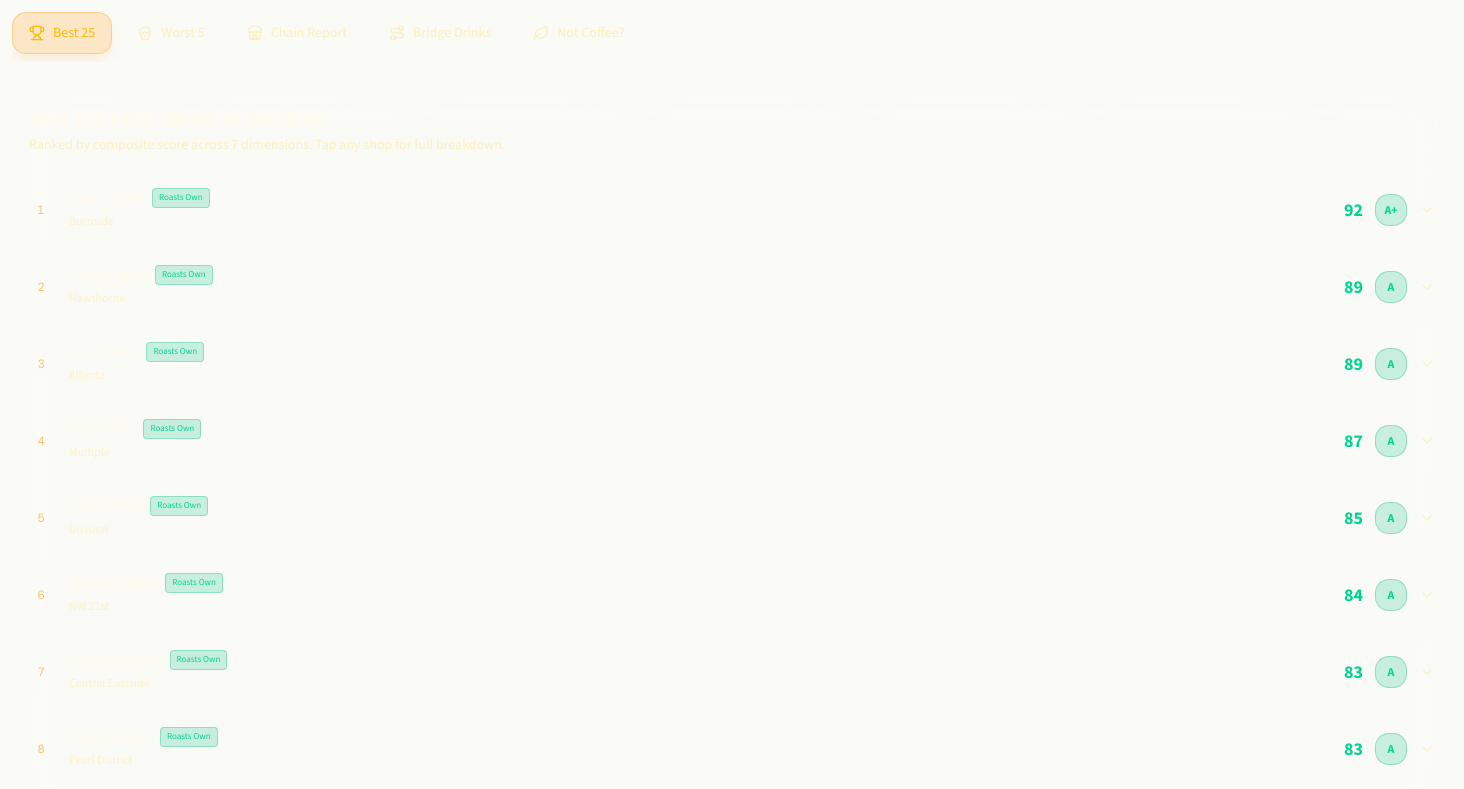
Test: CityDetailTabs › says data is coming soon when a tab has nothing
Click the button "Chain Report": (297, 33) [230,12,364,54]
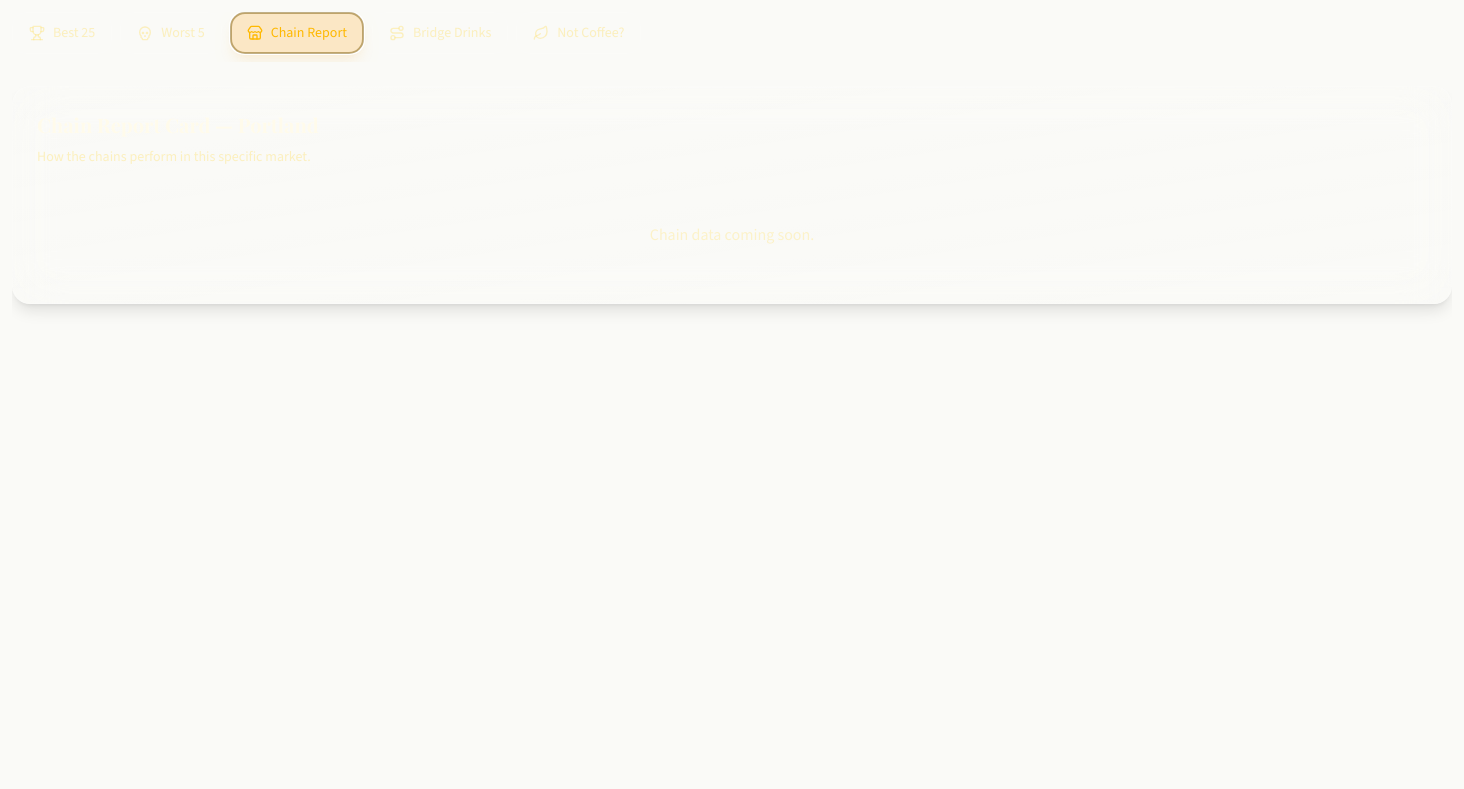
Check: the text "Chain data coming soon." is shown, box [650,224,814,245]
Click the button "Bridge Drinks": (440, 33) [372,12,508,54]
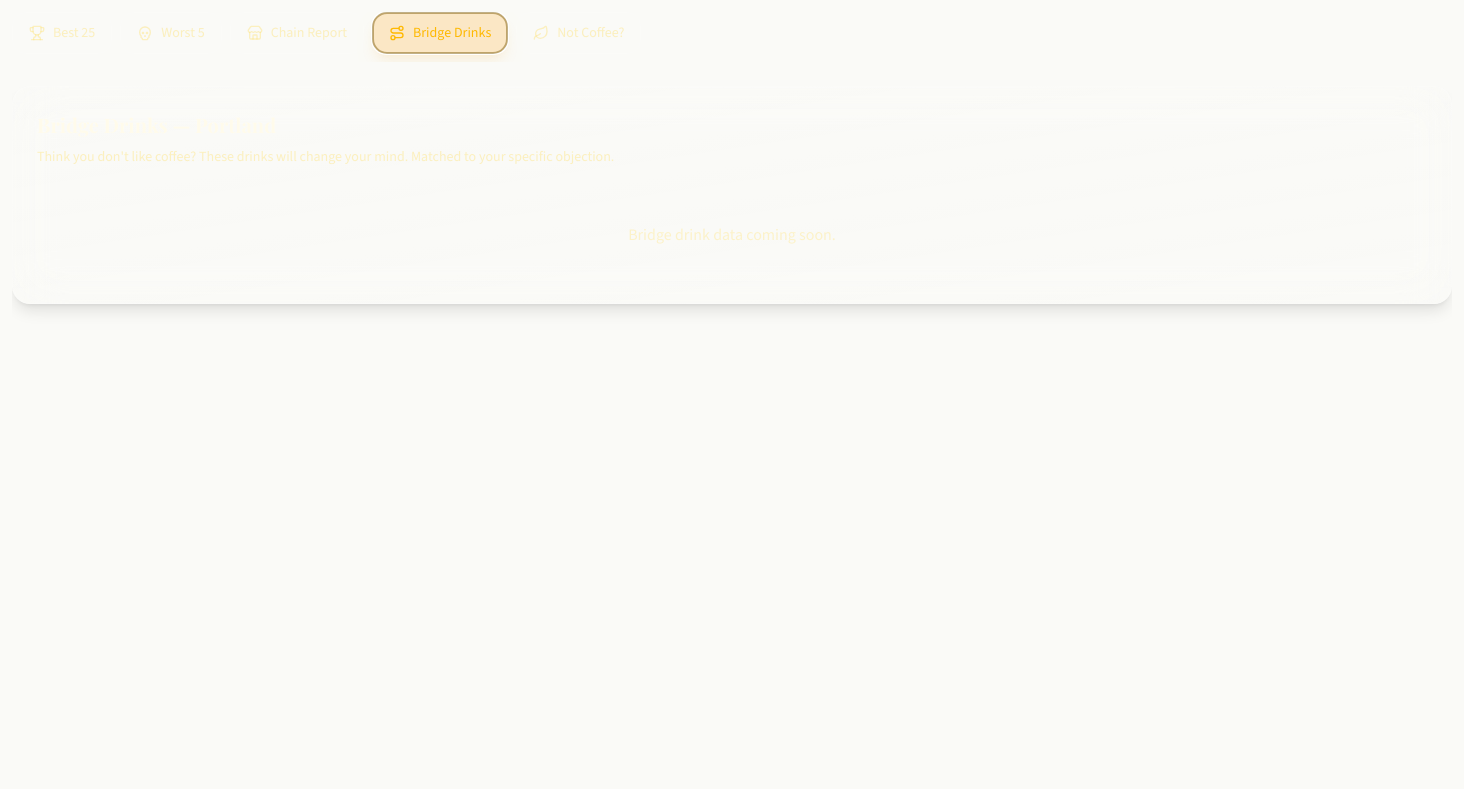
Check: the text "Bridge drink data coming soon." is shown, box [628,224,836,245]
Click the button "Not Coffee?": (579, 33) [516,12,642,54]
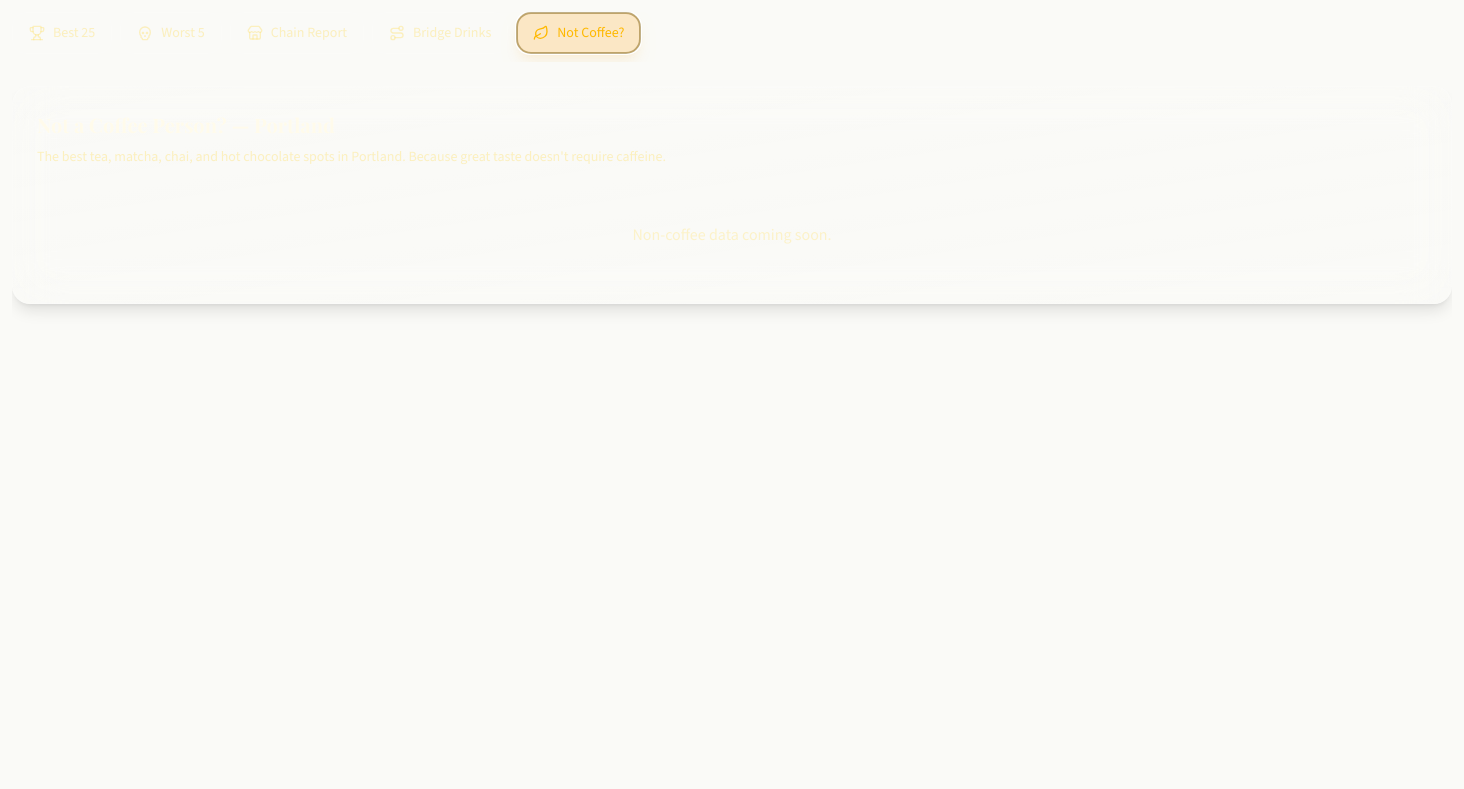
Check: the text "Non-coffee data coming soon." is shown, box [632,224,832,245]
